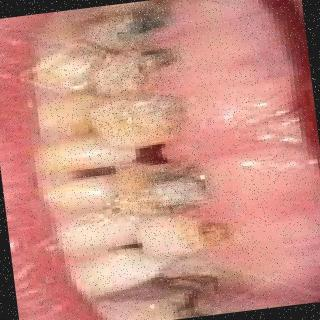cavities: (105, 85, 189, 143), (126, 162, 222, 212), (91, 5, 176, 51), (93, 46, 171, 94), (166, 261, 218, 311)
